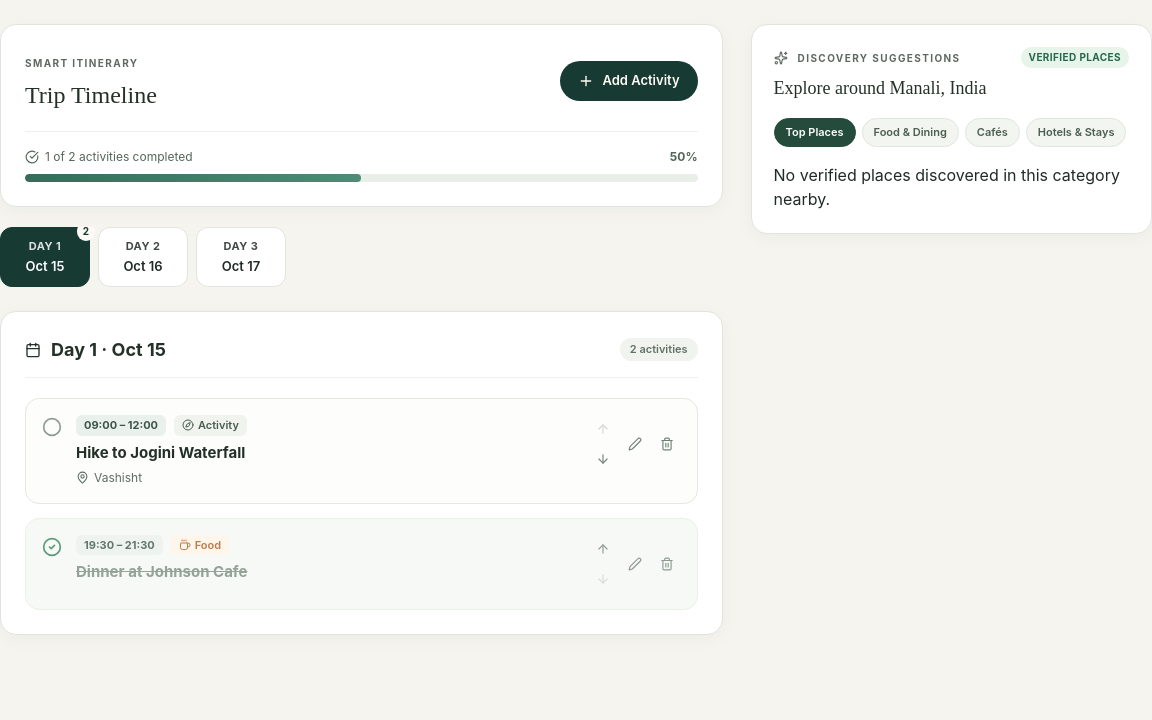
Scenario: ItineraryWorkspace › opens the add activity modal and submits new item
Later steps or results of the test are not shown.
Click the button "Add Activity". click: (629, 81)
box: [560,61,698,101]
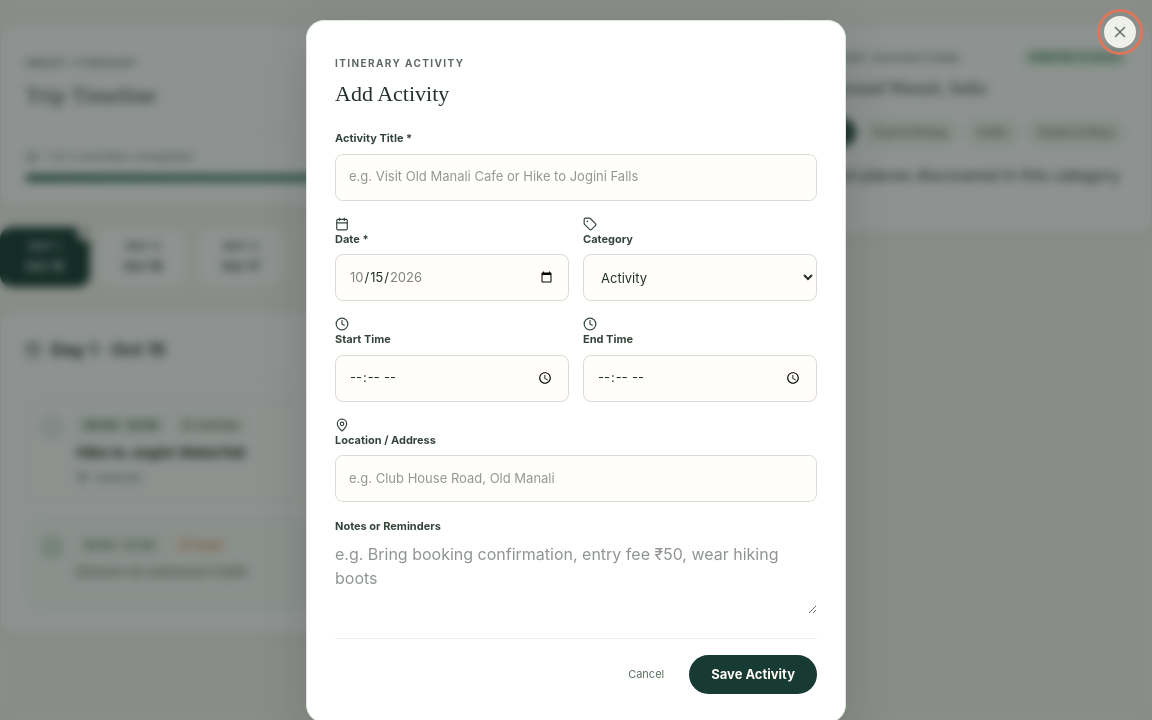
Now the heading "Add Activity" is shown, box [335,77,464,110]
